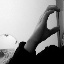c: (39, 4, 61, 38)
